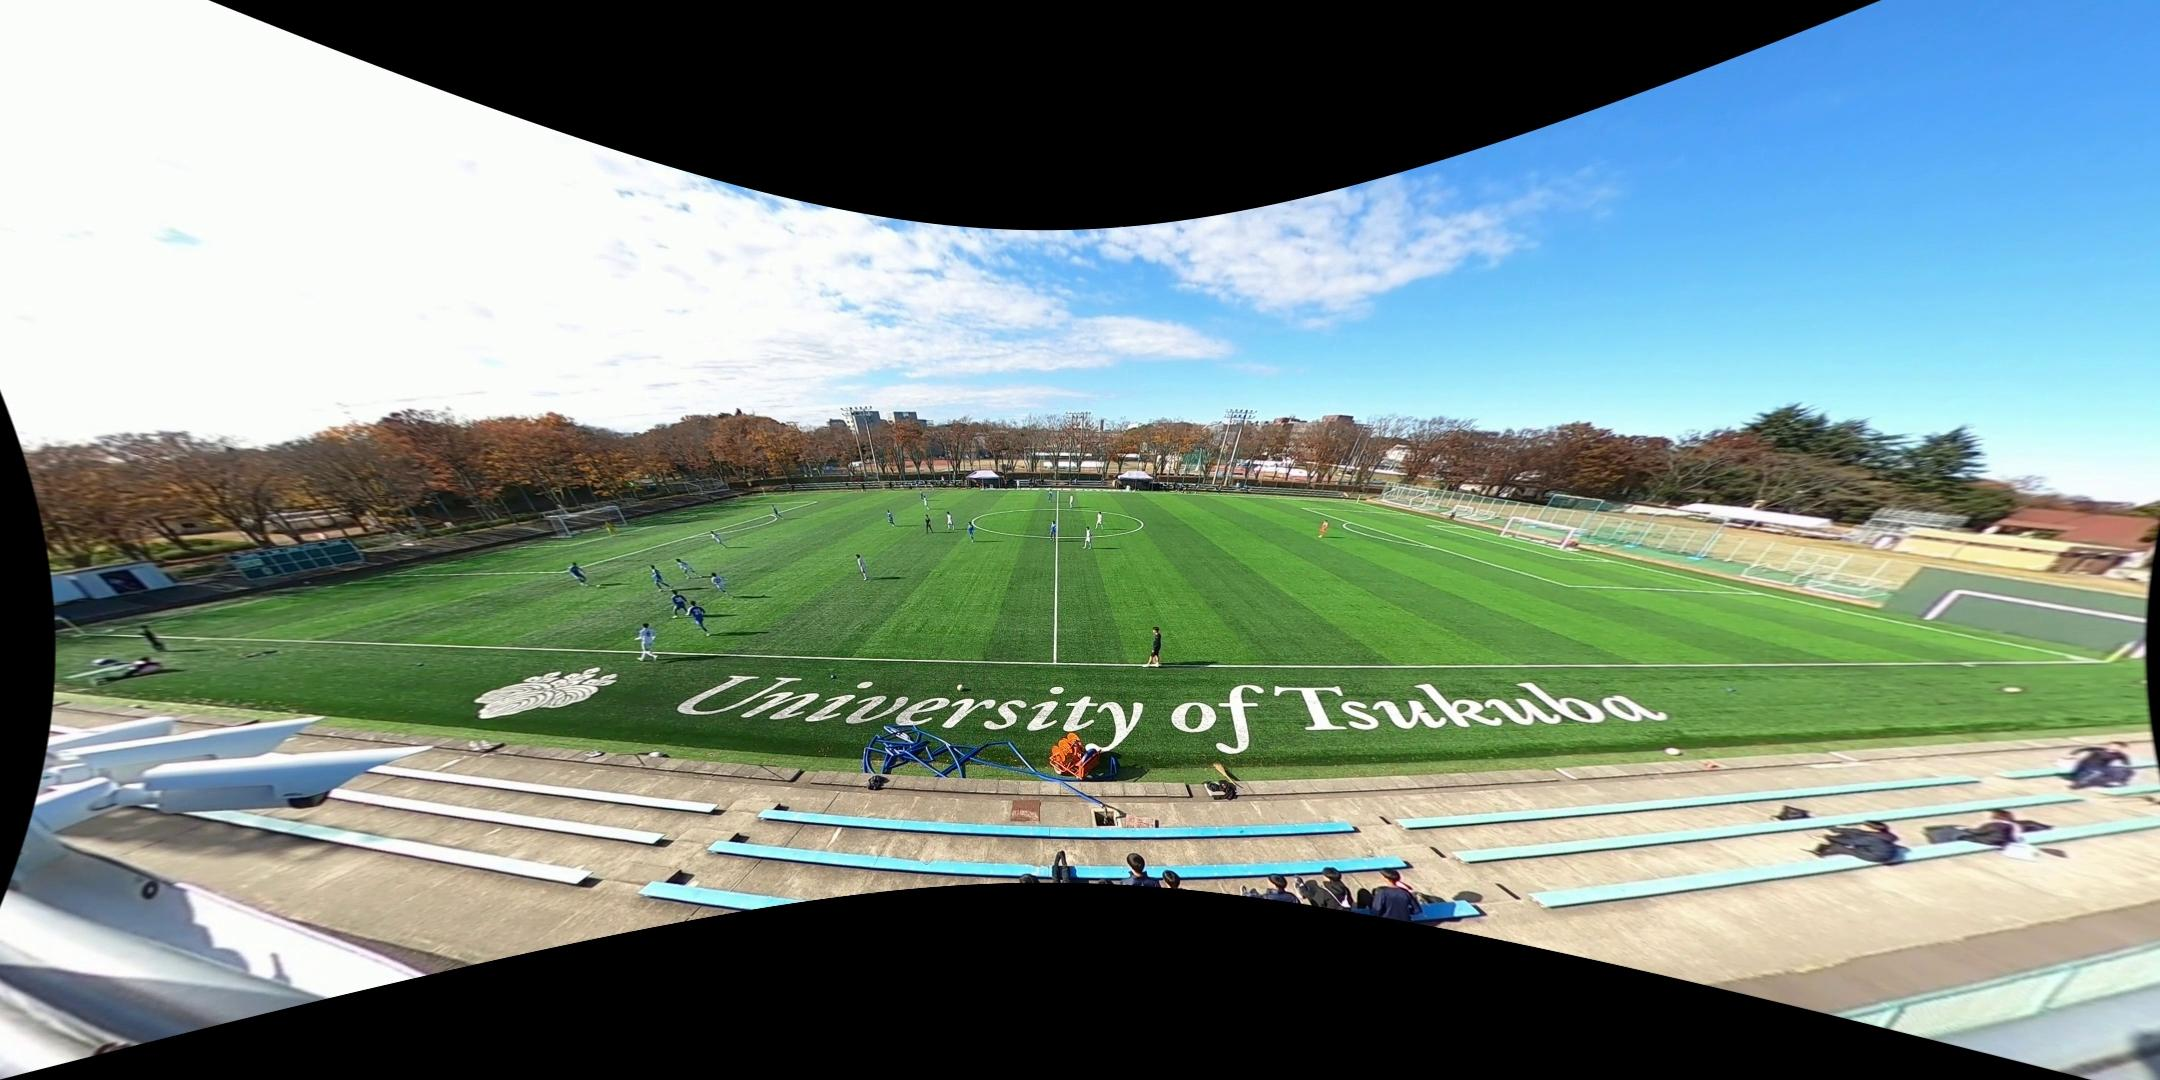person: (637, 623, 659, 660), (686, 600, 709, 635), (1144, 625, 1162, 669), (650, 564, 674, 591), (671, 589, 691, 620), (675, 558, 704, 579), (568, 561, 591, 586), (711, 571, 728, 598), (855, 553, 868, 581), (711, 531, 727, 549), (1317, 519, 1329, 539), (605, 520, 619, 537), (771, 504, 785, 520), (1083, 526, 1092, 550), (925, 514, 935, 534), (945, 510, 955, 530), (1095, 512, 1105, 530), (1050, 520, 1058, 542), (967, 522, 975, 543), (887, 510, 895, 527), (922, 495, 930, 510), (1067, 494, 1075, 509), (920, 490, 928, 502), (1046, 489, 1053, 502)
sports ball: (2000, 682, 2025, 698), (1663, 743, 1685, 757), (954, 681, 967, 692), (595, 583, 603, 590)
